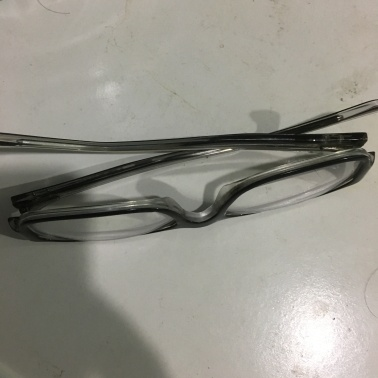glasses: (17, 124, 373, 237)
